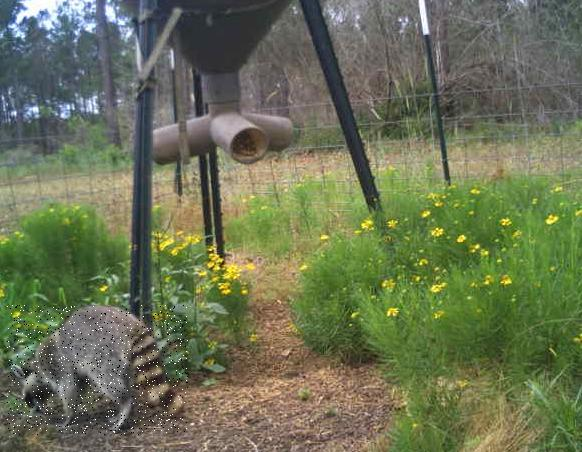Raccoon: (6, 306, 187, 436)
